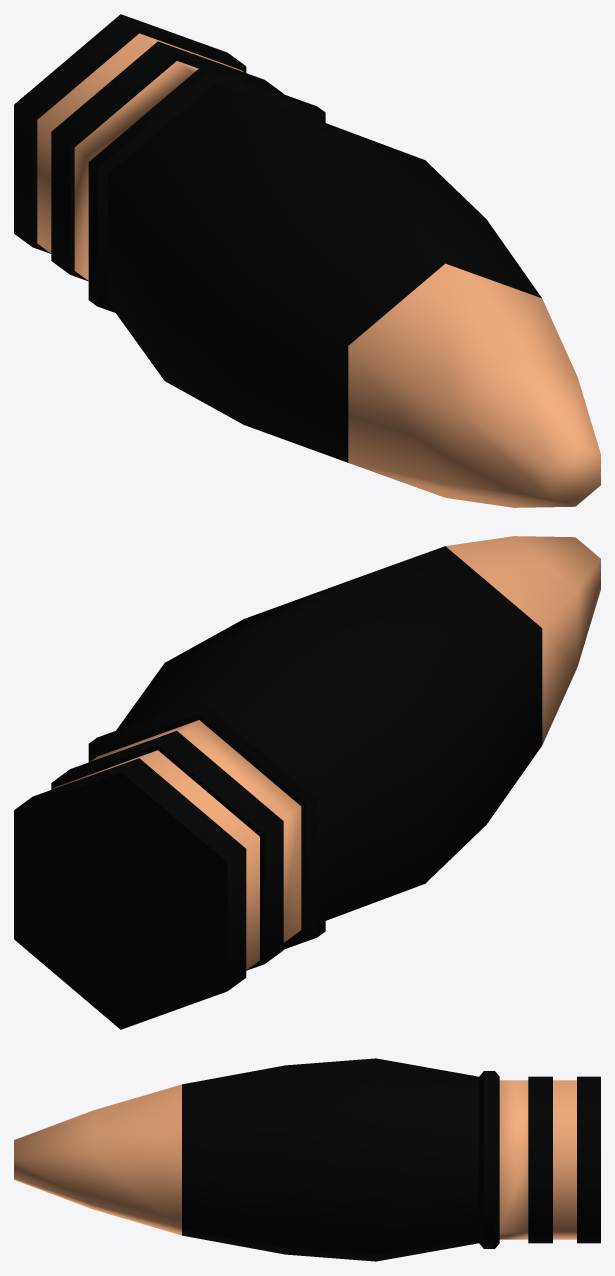
The model's file is bullet (1).fbx.
3 views of the same model, one above another, from view 1: azimuth 30°, elevation 25°; view 2: azimuth 150°, elevation 25°; view 3: azimuth 270°, elevation 25° (orthographic). The views are drawn at different scales.
Visible parts, largest first — view 1: Bullet_T4; view 2: Bullet_T4; view 3: Bullet_T4.
Part boxes in pixels (box(x1,y1,x2,y2)): Bullet_T4: box(14, 14, 600, 507); Bullet_T4: box(14, 536, 600, 1029); Bullet_T4: box(14, 1058, 600, 1261).
Bounding box in the file's own units: 15.71 × 18.15 × 47.51.
